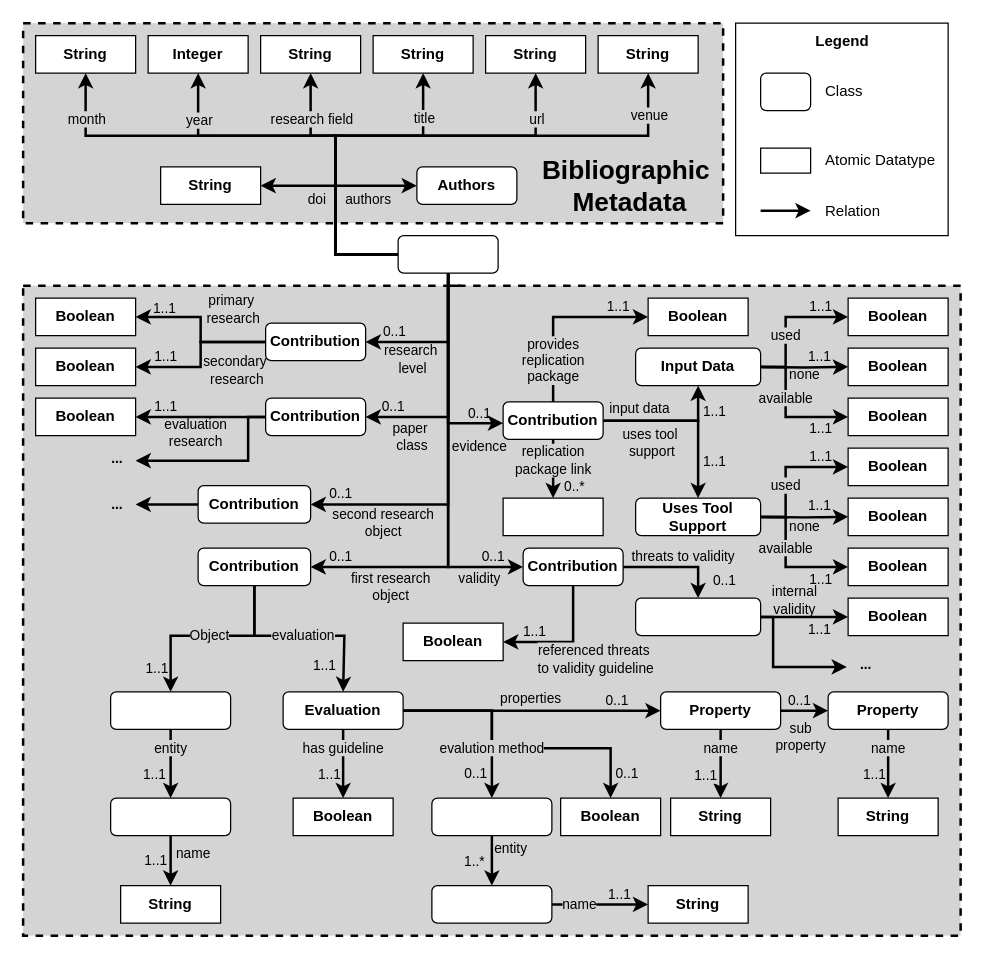
Image size: 983x958. Some labels were removed from this diagram. The centre of each missing label's shape, as x and y in pixels:
Evaluation Method Entity: [491,903]
Evaluation Method List: [491,816]
Paper: [447,253]
Research Object Entity: [170,816]
Research Object List: [170,710]
Text: [552,516]
Validity Threats: [697,616]
